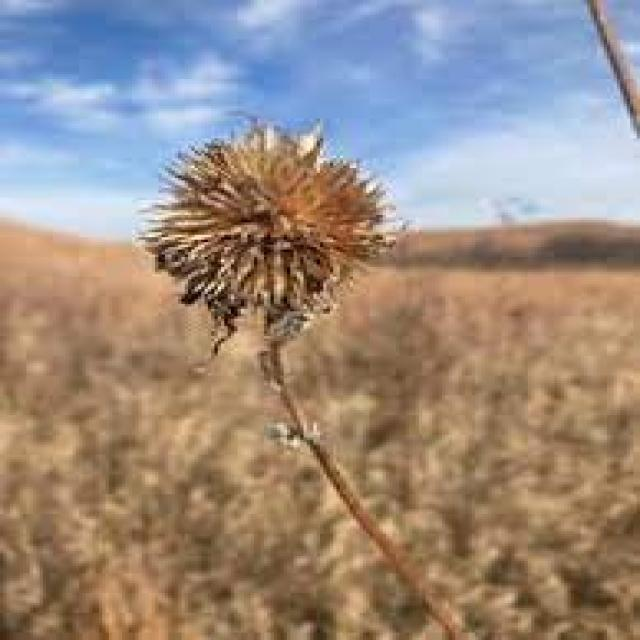sunflower: (132, 101, 427, 359)
